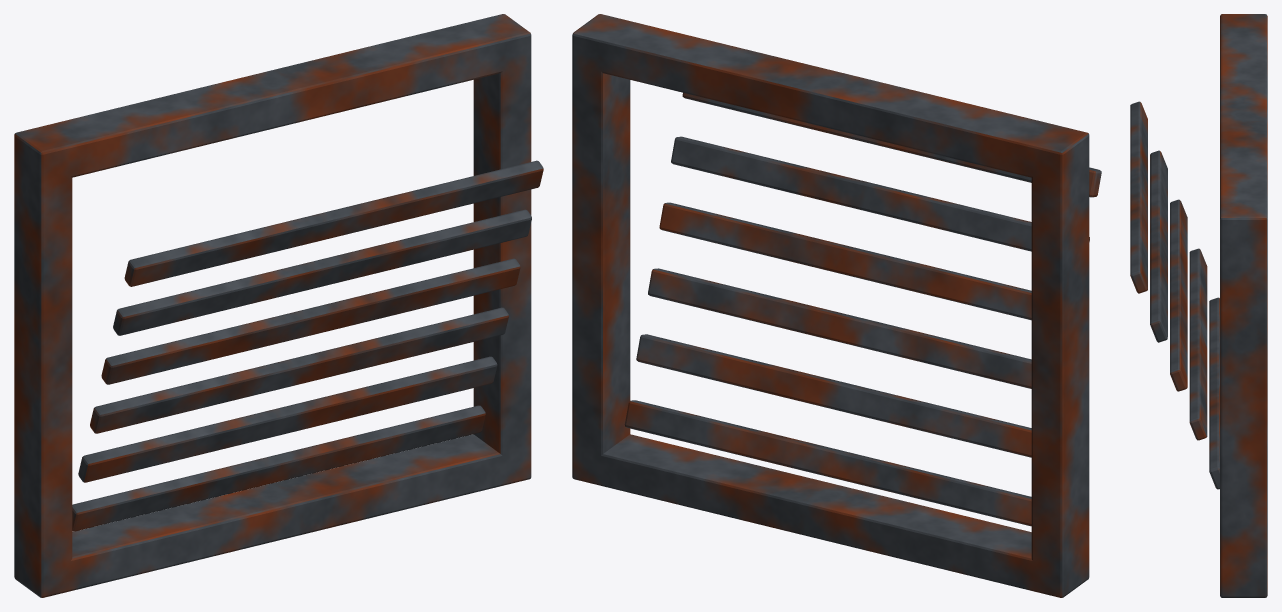
The model's file is prop_vent_hatch.glb.
The picture shows the model from 3 angles, left to right: view 1: azimuth 30°, elevation 25°; view 2: azimuth 150°, elevation 25°; view 3: azimuth 270°, elevation 25°; orthographic projection. The views are drawn at different scales.
Visible parts, largest first — view 1: FlangeTop, FlangeBot, FlangeL, FlangeR, Louver_3, Louver_5, Louver_2, Louver_4, Louver_1, Louver_0; view 2: FlangeTop, FlangeBot, FlangeL, FlangeR, Louver_0, Louver_1, Louver_2, Louver_3, Louver_4, Louver_5; view 3: FlangeR, FlangeTop, Louver_2, Louver_3, Louver_4, Louver_5, Louver_1, FlangeBot.
Boxes of the visible parts, bbox=[...] form: FlangeTop: bbox=[14, 14, 531, 182]; FlangeBot: bbox=[14, 434, 531, 597]; FlangeL: bbox=[14, 152, 72, 596]; FlangeR: bbox=[473, 52, 531, 484]; Louver_3: bbox=[101, 258, 520, 384]; Louver_5: bbox=[124, 160, 543, 286]; Louver_2: bbox=[90, 307, 508, 433]; Louver_4: bbox=[113, 209, 531, 335]; Louver_1: bbox=[78, 356, 497, 482]; Louver_0: bbox=[72, 405, 485, 531]; FlangeTop: bbox=[572, 14, 1089, 179]; FlangeBot: bbox=[572, 434, 1089, 597]; FlangeL: bbox=[1031, 153, 1089, 596]; FlangeR: bbox=[572, 52, 630, 485]; Louver_0: bbox=[624, 400, 1031, 526]; Louver_1: bbox=[636, 334, 1031, 457]; Louver_2: bbox=[648, 268, 1031, 388]; Louver_3: bbox=[659, 202, 1031, 320]; Louver_4: bbox=[671, 136, 1089, 251]; Louver_5: bbox=[682, 92, 1101, 197]; FlangeR: bbox=[1220, 233, 1267, 596]; FlangeTop: bbox=[1220, 14, 1267, 244]; Louver_2: bbox=[1189, 248, 1207, 440]; Louver_3: bbox=[1170, 199, 1187, 391]; Louver_4: bbox=[1150, 150, 1167, 342]; Louver_5: bbox=[1130, 101, 1147, 293]; Louver_1: bbox=[1209, 297, 1219, 489]; FlangeBot: bbox=[1220, 571, 1267, 597].
Bounding box in the file's own units: 1.22 × 1.06 × 0.3458.
Materials: 1 (1 with a texture image).
